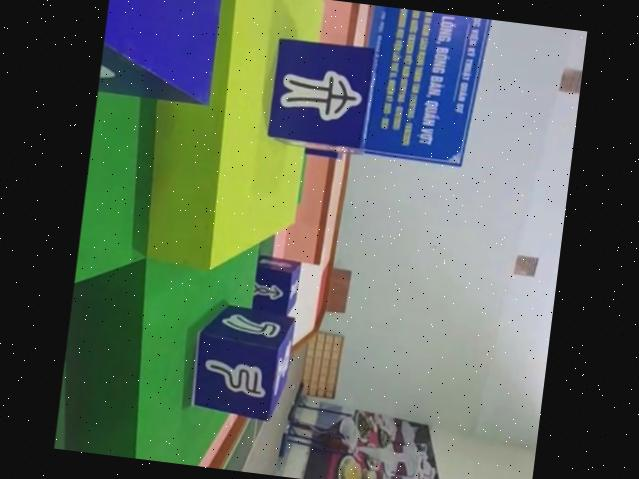R2 Fake Blue: (261, 37, 376, 155), (97, 0, 223, 102)
R2 Real Blue: (185, 299, 296, 422), (249, 254, 301, 321)
